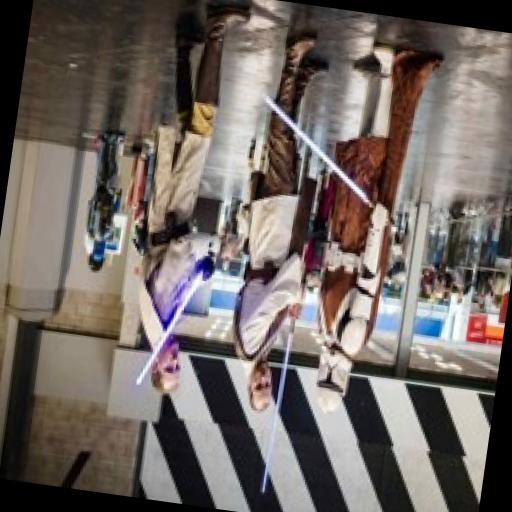human: (124, 0, 260, 401), (214, 27, 348, 414), (298, 41, 422, 413)
lightsaber: (239, 91, 413, 236), (134, 246, 222, 393), (252, 305, 307, 500)
